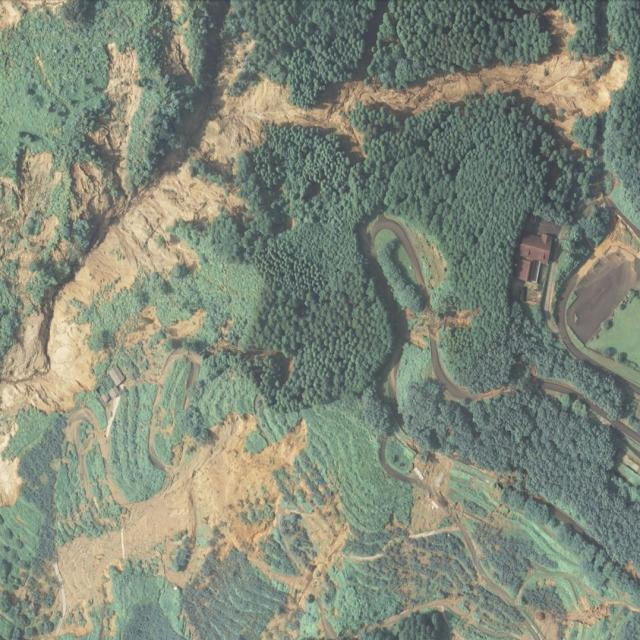landslide: (0, 12, 628, 441), (46, 414, 306, 637)
